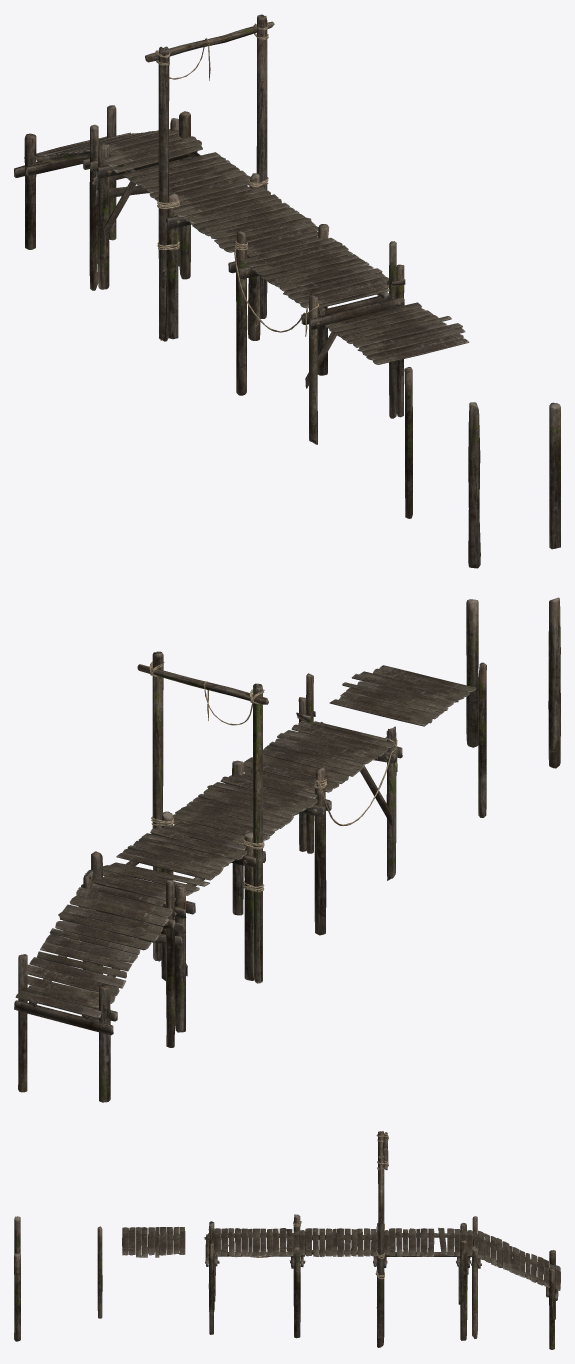
The model's file is modular_wooden_pier.glb.
The picture shows the model from 3 angles, top to bottom: view 1: azimuth 30°, elevation 25°; view 2: azimuth 150°, elevation 25°; view 3: azimuth 270°, elevation 25°; orthographic projection. The views are drawn at different scales.
Bounding box in the file's own units: 3.09 × 7.51 × 19.03.
2 materials, 2 textured.
